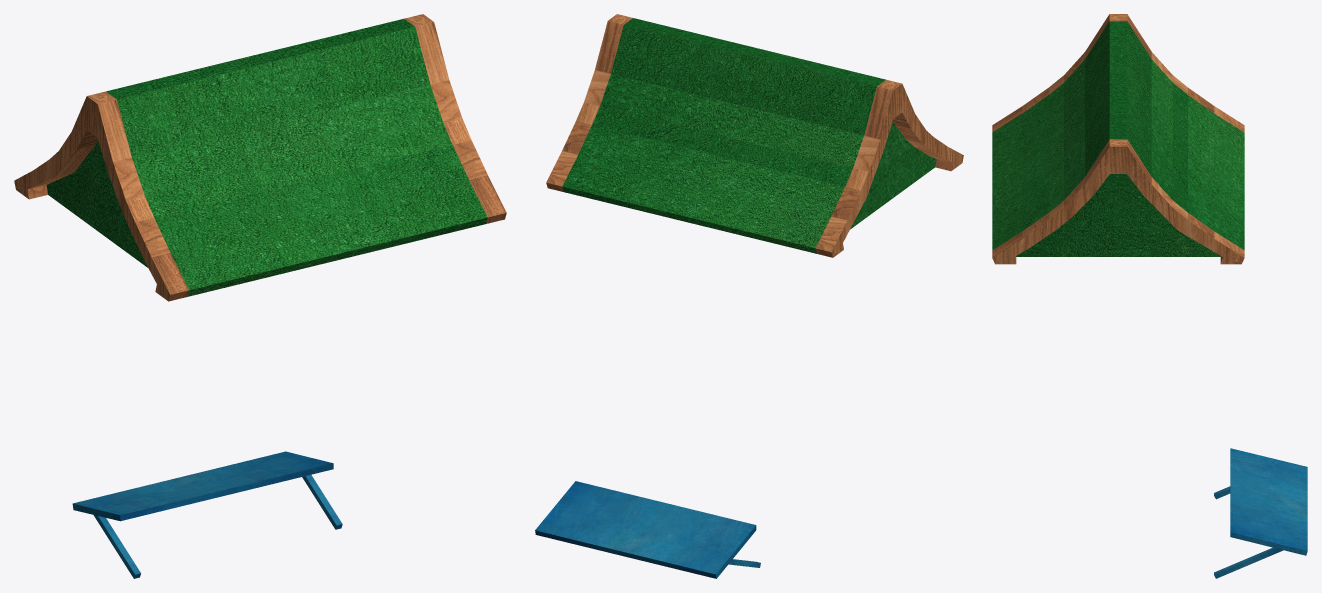
3 views of the same model, side by side, from view 1: azimuth 30°, elevation 25°; view 2: azimuth 150°, elevation 25°; view 3: azimuth 270°, elevation 25° (orthographic). The views are drawn at different scales.
Parts seen in each view (by area): view 1: Object_5, Object_4, Object_3, Object_6, Object_1; view 2: Object_5, Object_3, Object_4, Object_6; view 3: Object_5, Object_3, Object_6, Object_4, Object_2.
Part boxes in pixels (bbox=[...]): Object_5: bbox=[46, 18, 487, 296]; Object_4: bbox=[14, 91, 189, 301]; Object_3: bbox=[72, 451, 333, 521]; Object_6: bbox=[404, 14, 506, 223]; Object_1: bbox=[93, 515, 140, 578]; Object_5: bbox=[562, 18, 936, 253]; Object_3: bbox=[535, 481, 756, 578]; Object_4: bbox=[815, 79, 963, 257]; Object_6: bbox=[546, 14, 632, 191]; Object_5: bbox=[992, 21, 1244, 256]; Object_3: bbox=[1230, 448, 1307, 555]; Object_6: bbox=[992, 139, 1244, 264]; Object_4: bbox=[992, 14, 1244, 132]; Object_2: bbox=[1214, 547, 1283, 578].
Bounding box in the file's own units: 570 × 887 × 572.
Materials: 3 (3 with a texture image).
